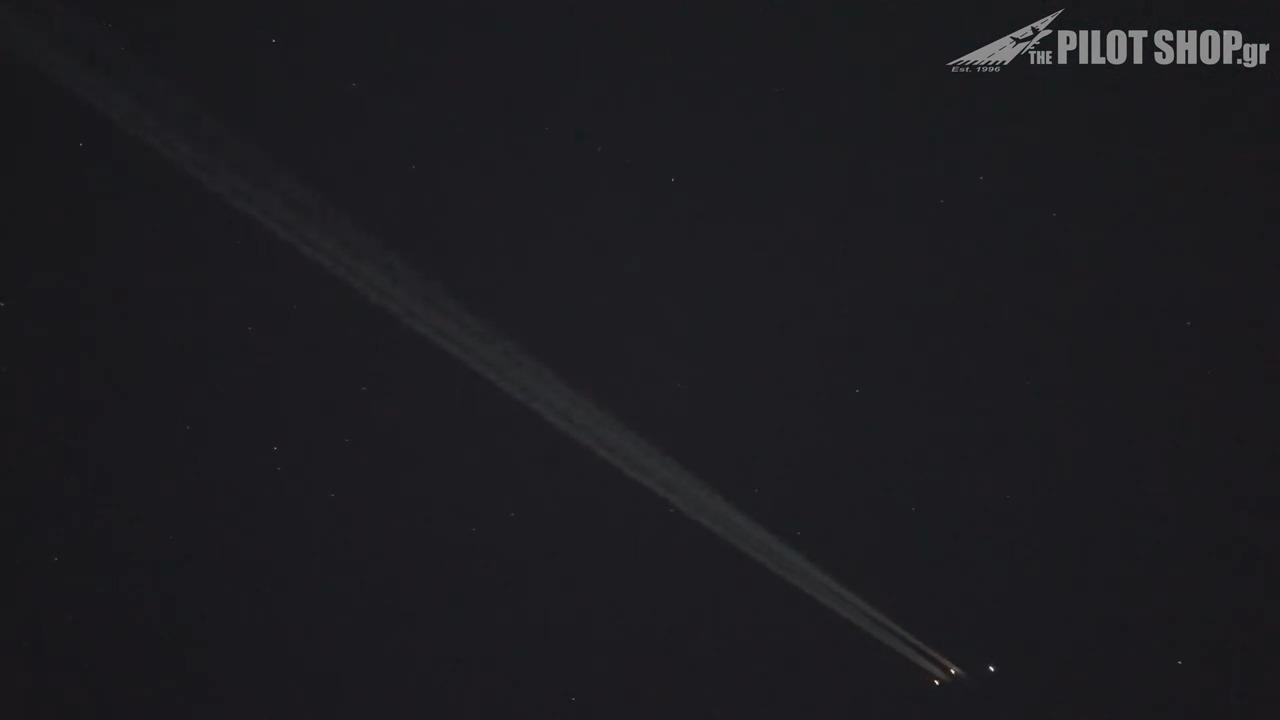Plane: (726, 509, 1014, 709)
